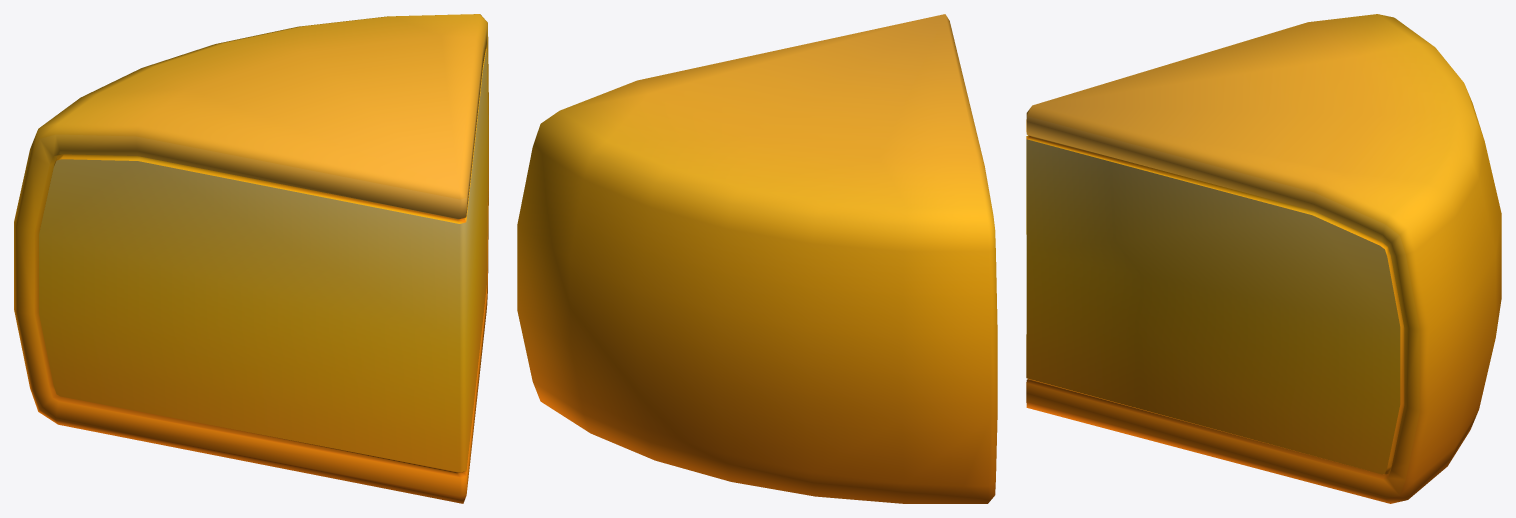
The model's file is cheese_001.fbx.
3 renders of one model, left to right at view 1: azimuth 30°, elevation 25°; view 2: azimuth 150°, elevation 25°; view 3: azimuth 270°, elevation 25°, orthographic. The views are drawn at different scales.
Visible parts, largest first — view 1: cheese_001; view 2: cheese_001; view 3: cheese_001.
Part boxes in pixels (x1,y1,x2,y2): cheese_001: [14, 14, 488, 503]; cheese_001: [517, 14, 997, 503]; cheese_001: [1026, 14, 1501, 503].
Size of the model in its own units: 13.04 by 11.66 by 8.18.
